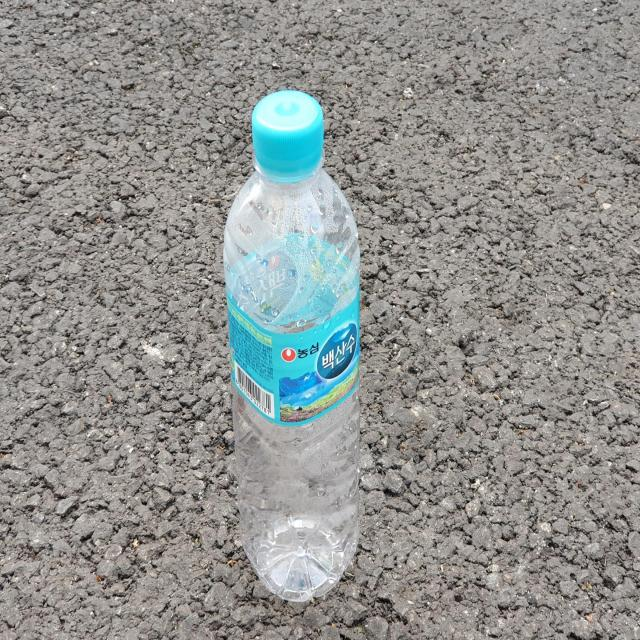plastic: (223, 89, 360, 602)
